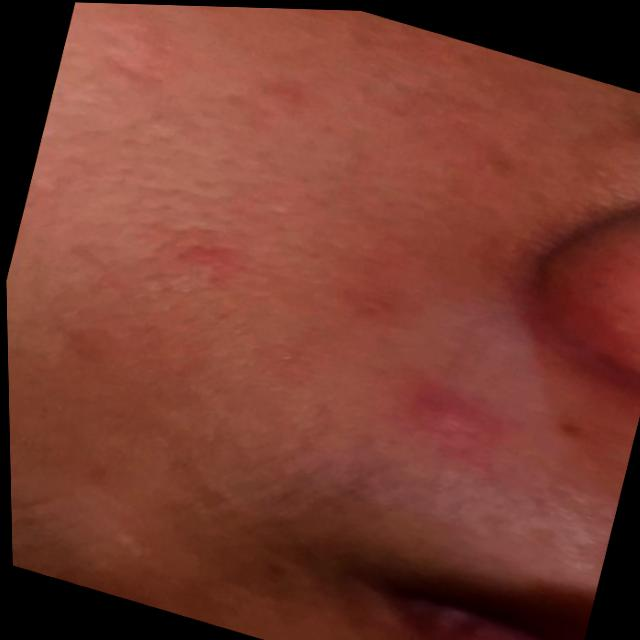papule: (380, 378, 489, 441)
